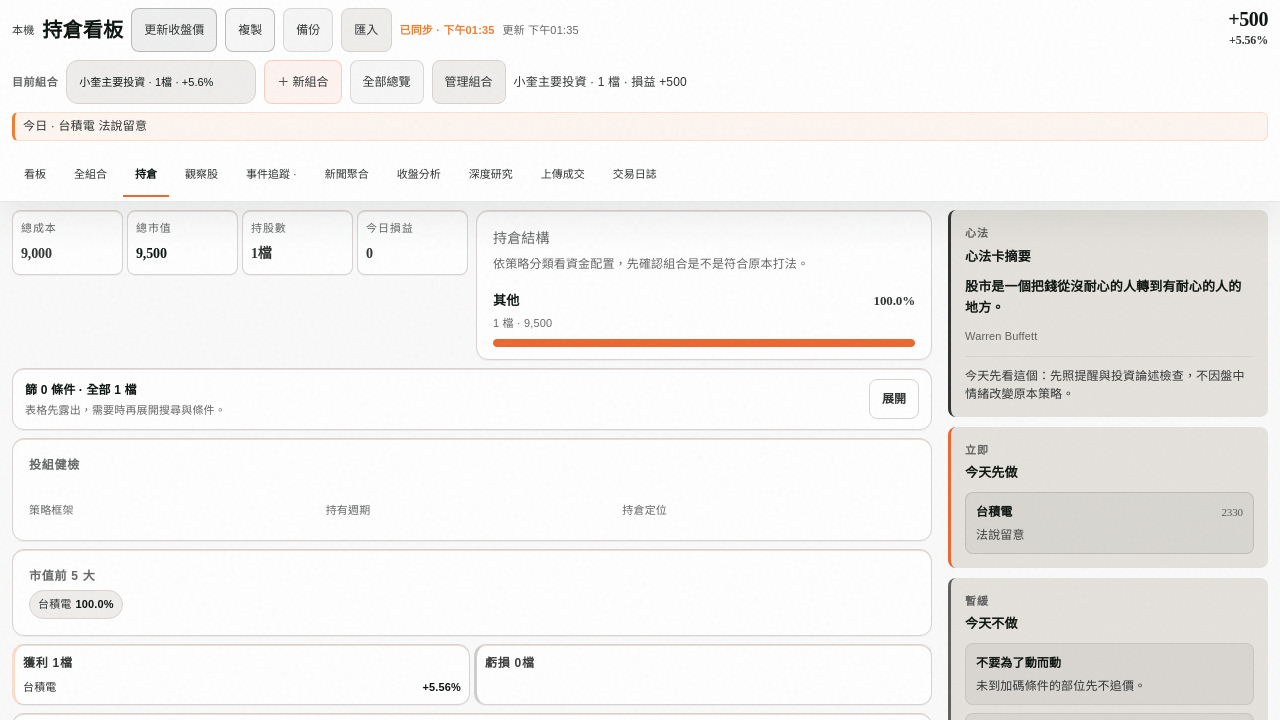
Scenario: routes/PortfolioLayout › navigates between holdings and watchlist routes through header tabs
Check: the text "投組健檢" is shown, box [29,458,80,472]
Click the button "觀察股": (202, 175) [173,153,230,197]
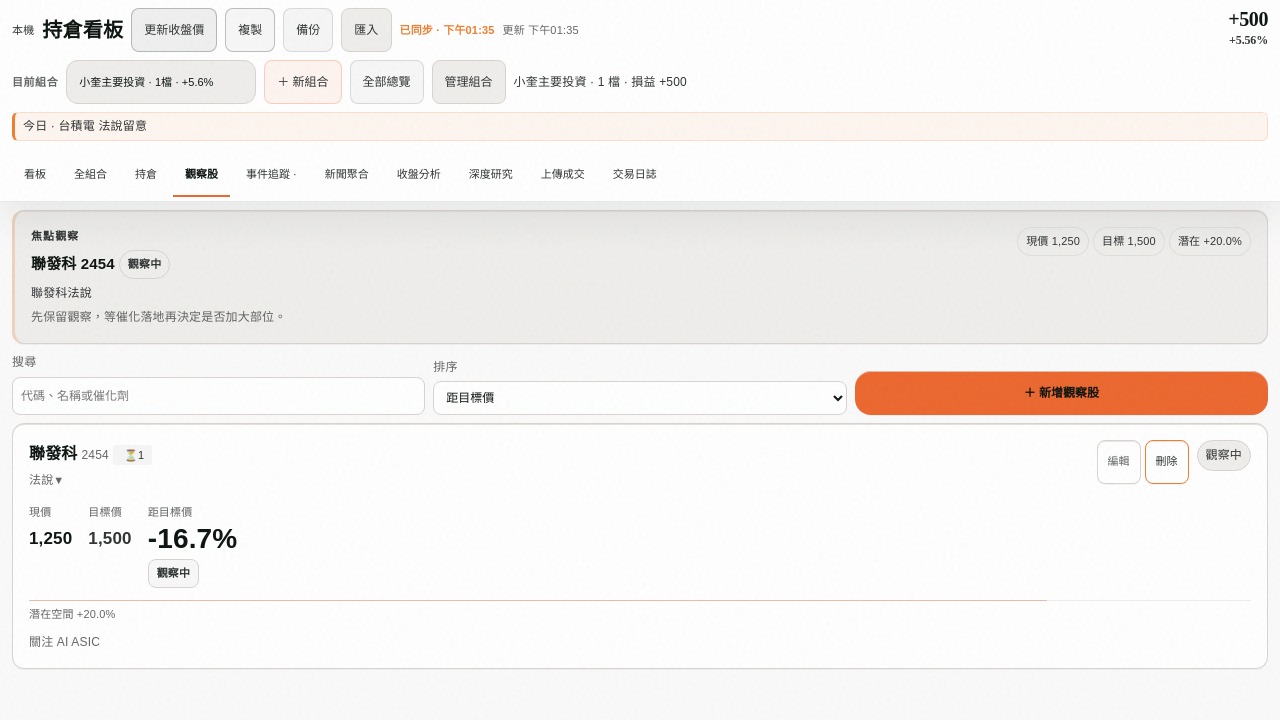
Check: the text "焦點觀察" is shown, box [31,230,79,242]
Check: the text "聯發科 2454" is shown, box [31,252,115,277]
